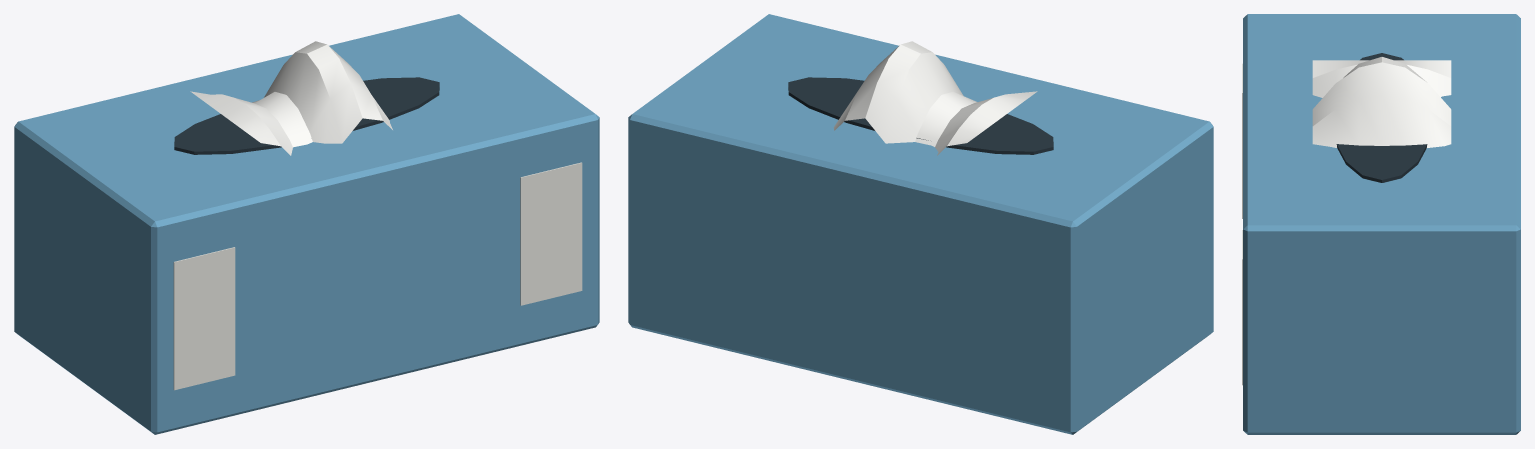
The model's file is tissue_box.glb.
The picture shows the model from 3 angles, left to right: view 1: azimuth 30°, elevation 25°; view 2: azimuth 150°, elevation 25°; view 3: azimuth 270°, elevation 25°; orthographic projection.
Parts seen in each view (by area): view 1: tissue_box; view 2: tissue_box; view 3: tissue_box.
Boxes of the visible parts, box(x1,y1,x2,y2) form: tissue_box: box(14, 14, 599, 434); tissue_box: box(628, 14, 1213, 434); tissue_box: box(1242, 14, 1520, 434).
Size of the model in its own units: 0.2167 by 0.13 by 0.1186.
